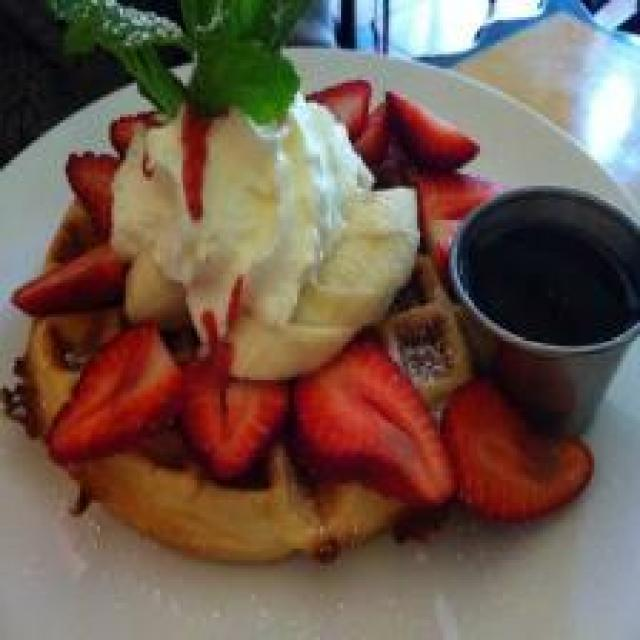Waffles: (26, 110, 534, 570)
